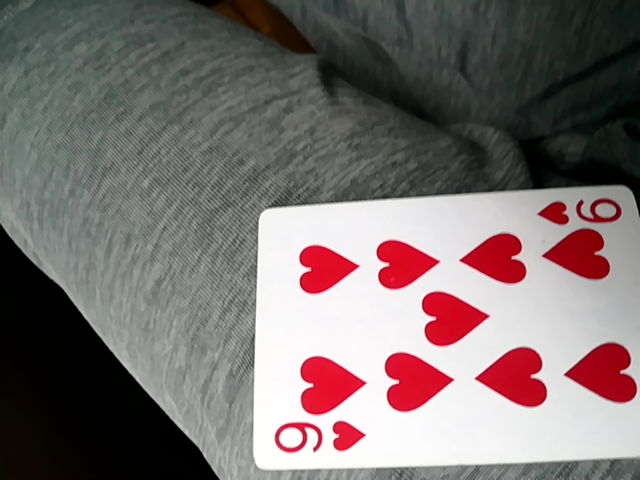hx 9: (256, 182, 639, 475)
